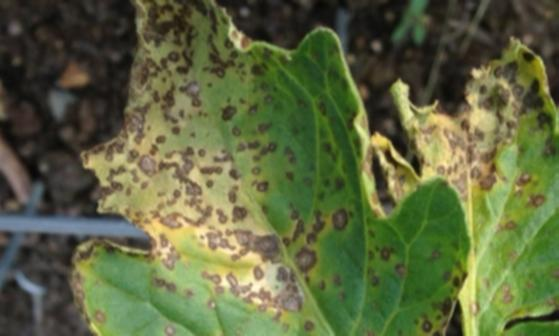Tomato Septoria leaf spot: (52, 0, 559, 336), (337, 23, 559, 336)
